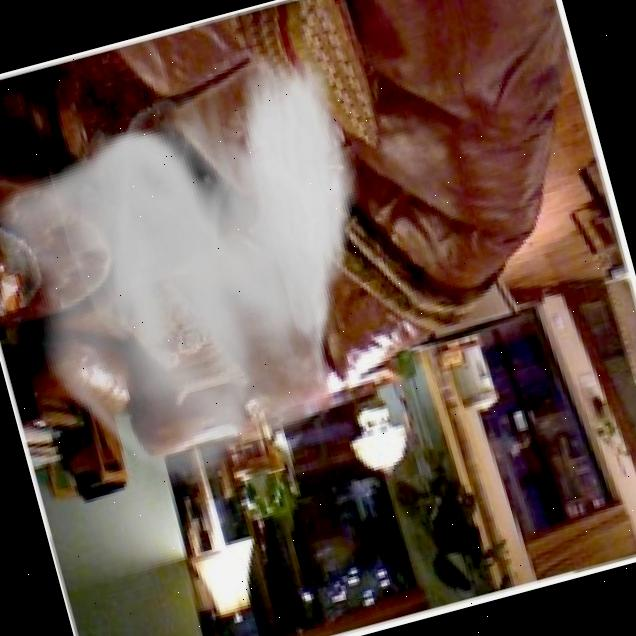smoke: (0, 29, 429, 523)
